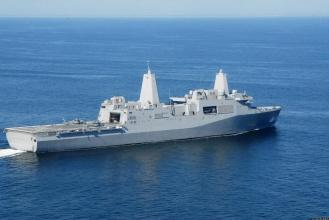warship: (2, 59, 284, 152)
